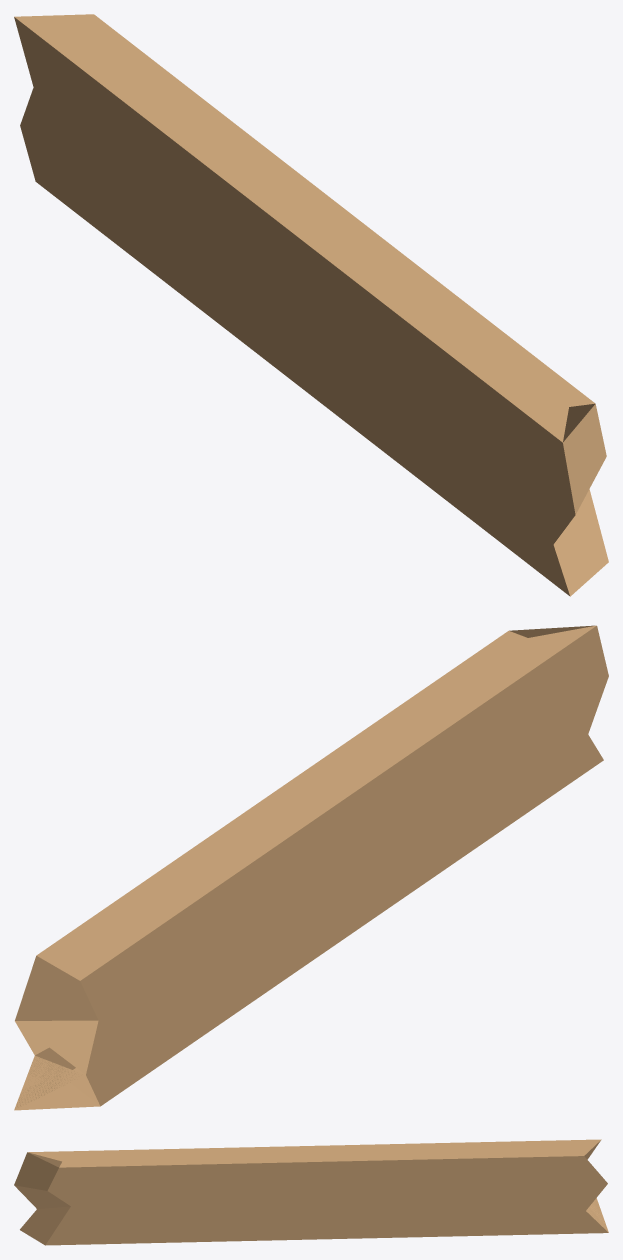
File: BrokenLog-col.glb
The picture shows the model from 3 angles, top to bottom: view 1: azimuth 30°, elevation 25°; view 2: azimuth 150°, elevation 25°; view 3: azimuth 270°, elevation 25°; orthographic projection. The views are drawn at different scales.
Parts seen in each view (by area): view 1: BrokenLog-col; view 2: BrokenLog-col; view 3: BrokenLog-col.
Boxes of the visible parts, box(x1,y1,x2,y2) form: BrokenLog-col: box(14, 14, 608, 596); BrokenLog-col: box(14, 625, 608, 1110); BrokenLog-col: box(14, 1139, 608, 1245).
Size of the model in its own units: 0.1505 by 0.3924 by 2.34.
